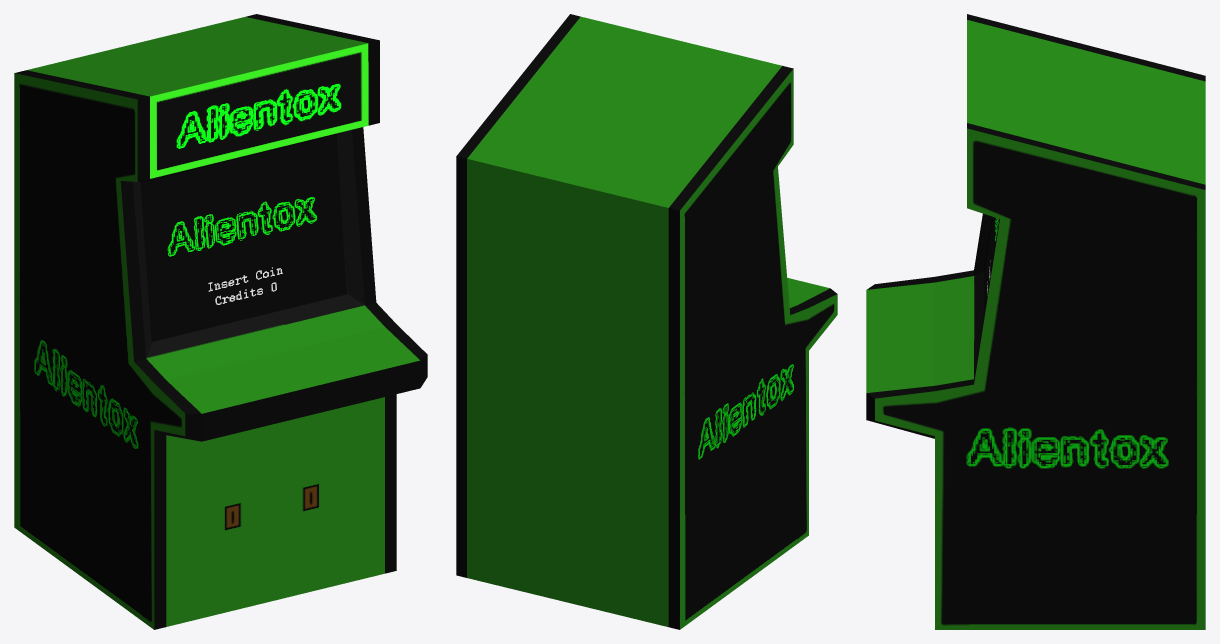
Rendered from cab_alientox.glb.
The picture shows the model from 3 angles, left to right: view 1: azimuth 30°, elevation 25°; view 2: azimuth 150°, elevation 25°; view 3: azimuth 270°, elevation 25°; orthographic projection. The views are drawn at different scales.
Visible parts, largest first — view 1: cabinet; view 2: cabinet; view 3: cabinet.
Part boxes in pixels (x1,y1,x2,y2): cabinet: (14, 14, 427, 629); cabinet: (456, 14, 837, 629); cabinet: (866, 14, 1205, 629).
Size of the model in its own units: 2 by 4.09 by 2.51.
Materials: 2 (2 with a texture image).
